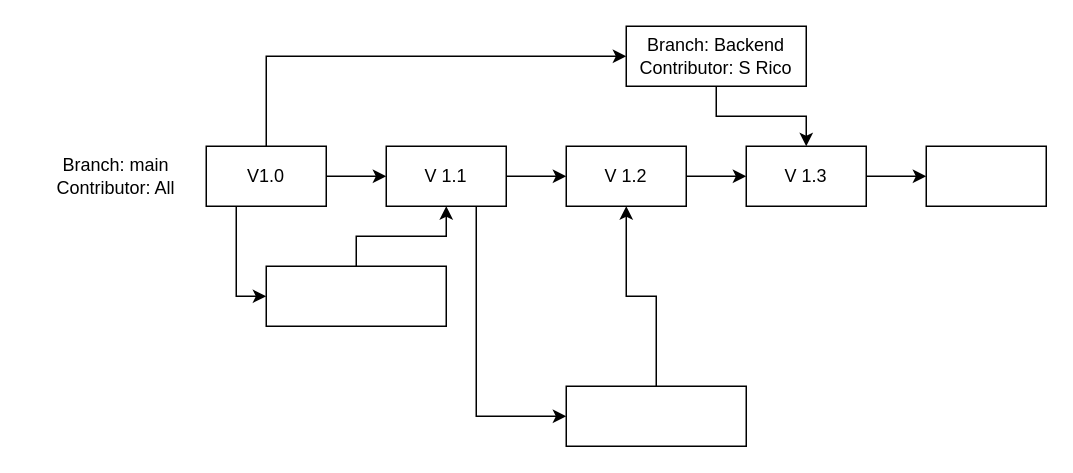
This 1073x473 diagram has some shape labels left out. The shapes that lost their labels are listed below. From the top down, each one's box as (x1, y1, x2, y2) in pixels, then its label:
(925, 145, 1046, 206): V 1.4
(265, 265, 446, 326): Branch: Website Contributor: J Nong
(565, 385, 746, 446): Branch: Web search Contributor: J Villasis
